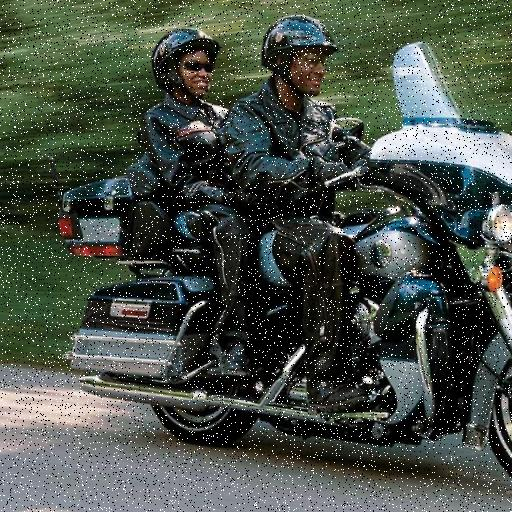Helmet: (146, 12, 216, 103), (257, 19, 335, 95)
Motor: (41, 162, 512, 461)
